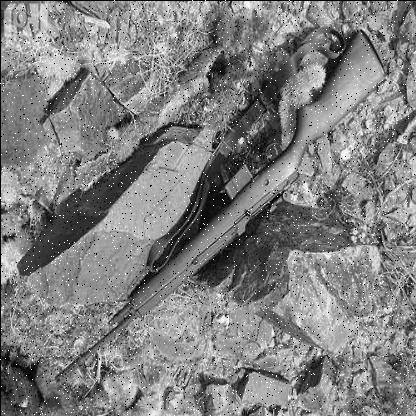rifle: (52, 13, 395, 390)
